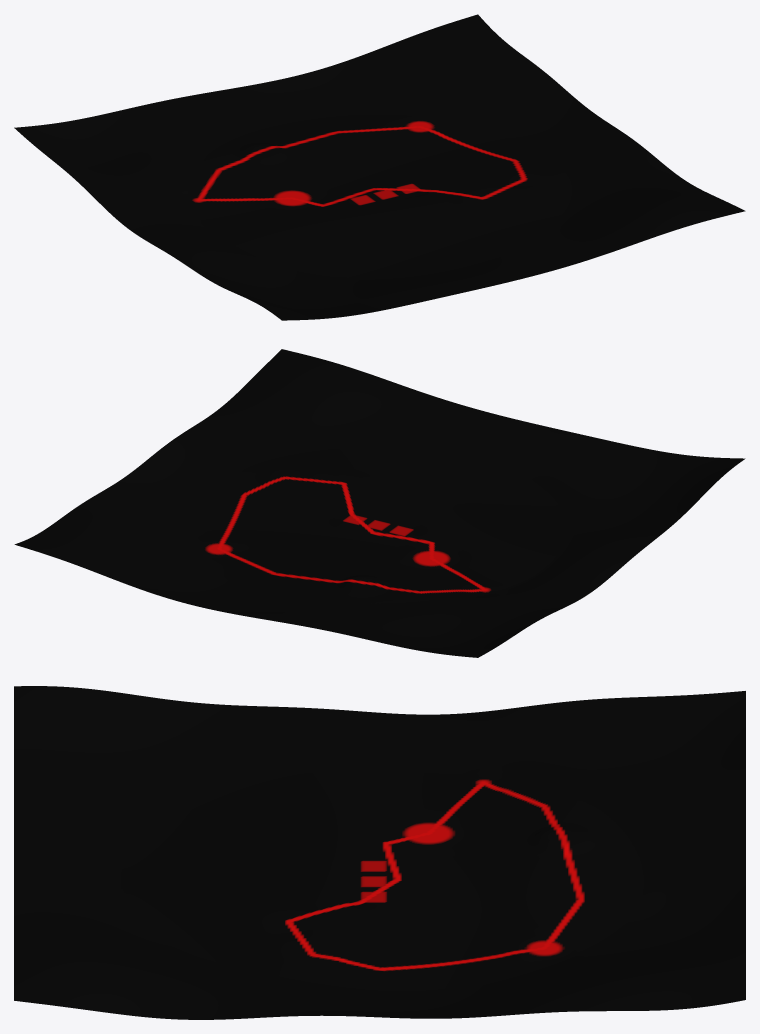
Rendered from SM_GreenlandsRegion.fbx.
The picture shows the model from 3 angles, top to bottom: view 1: azimuth 30°, elevation 25°; view 2: azimuth 150°, elevation 25°; view 3: azimuth 270°, elevation 25°; orthographic projection. The views are drawn at different scales.
Parts seen in each view (by area): view 1: SM_GreenlandsRegion; view 2: SM_GreenlandsRegion; view 3: SM_GreenlandsRegion.
Part boxes in pixels (left/top/right/bottom): SM_GreenlandsRegion: left=14, top=14, right=745, bottom=320; SM_GreenlandsRegion: left=14, top=349, right=745, bottom=657; SM_GreenlandsRegion: left=14, top=686, right=745, bottom=1019.
Size of the model in its own units: 60000 by 60000 by 4063.
